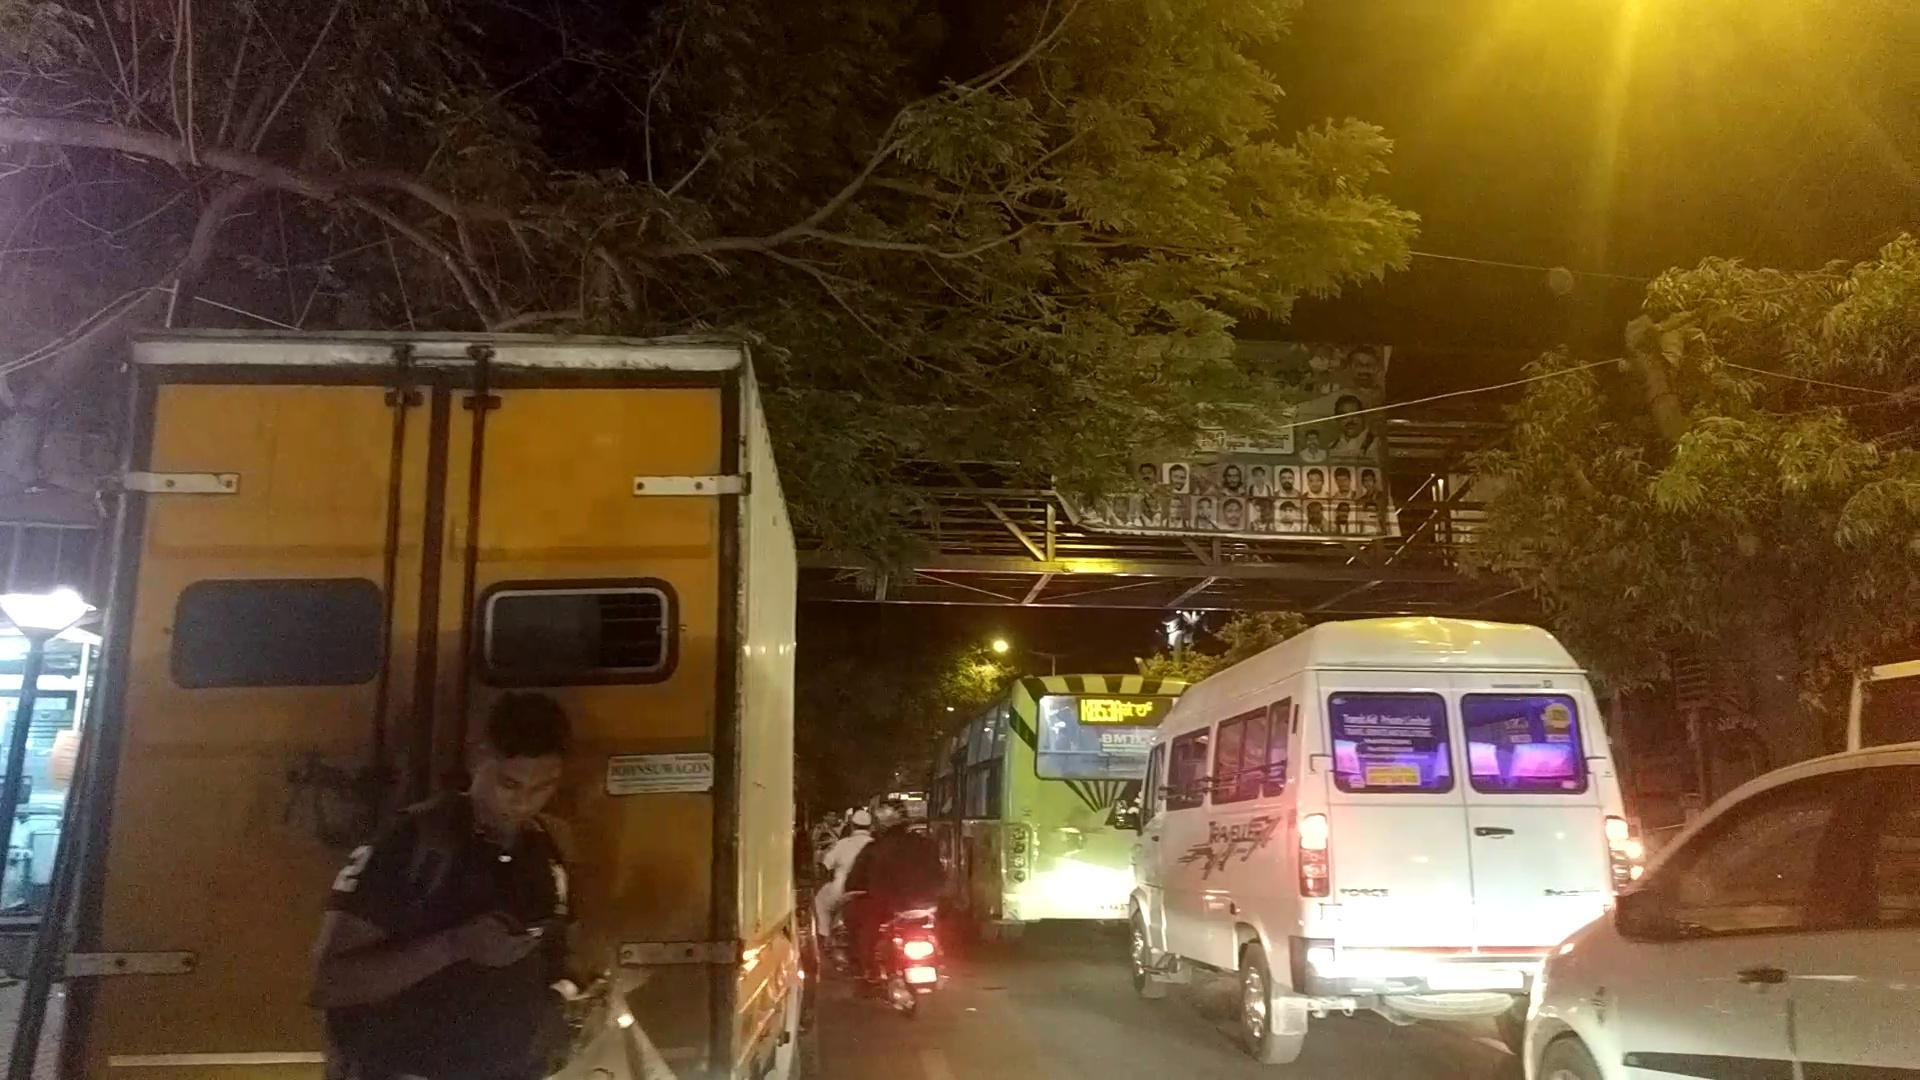on: (61, 12, 1920, 1080)
